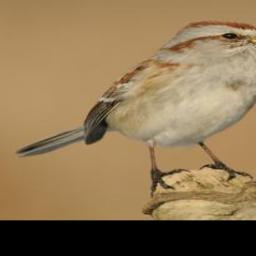Sparrow: (12, 19, 256, 194)
